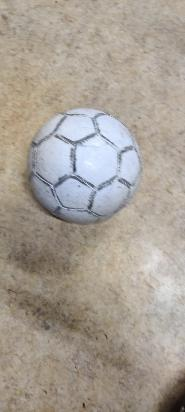Football size 5: (30, 107, 139, 225)
